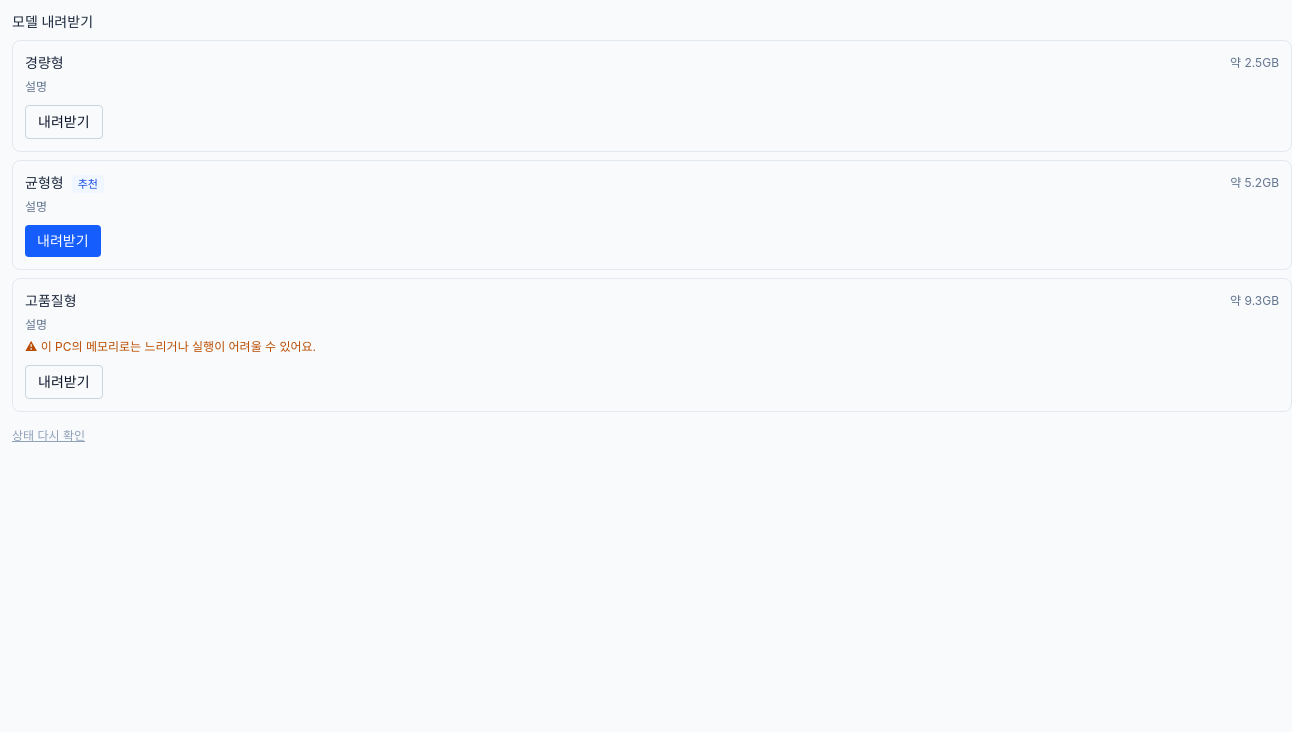
Test: LocalAiSection › 다운로드 진행률을 progressbar로 보여주고 완료 후 연결을 확인한다
The width and height of the screenshot is (1292, 732).
Click the button "내려받기" below "균형형".
click(63, 241)  # box [25, 225, 100, 257]
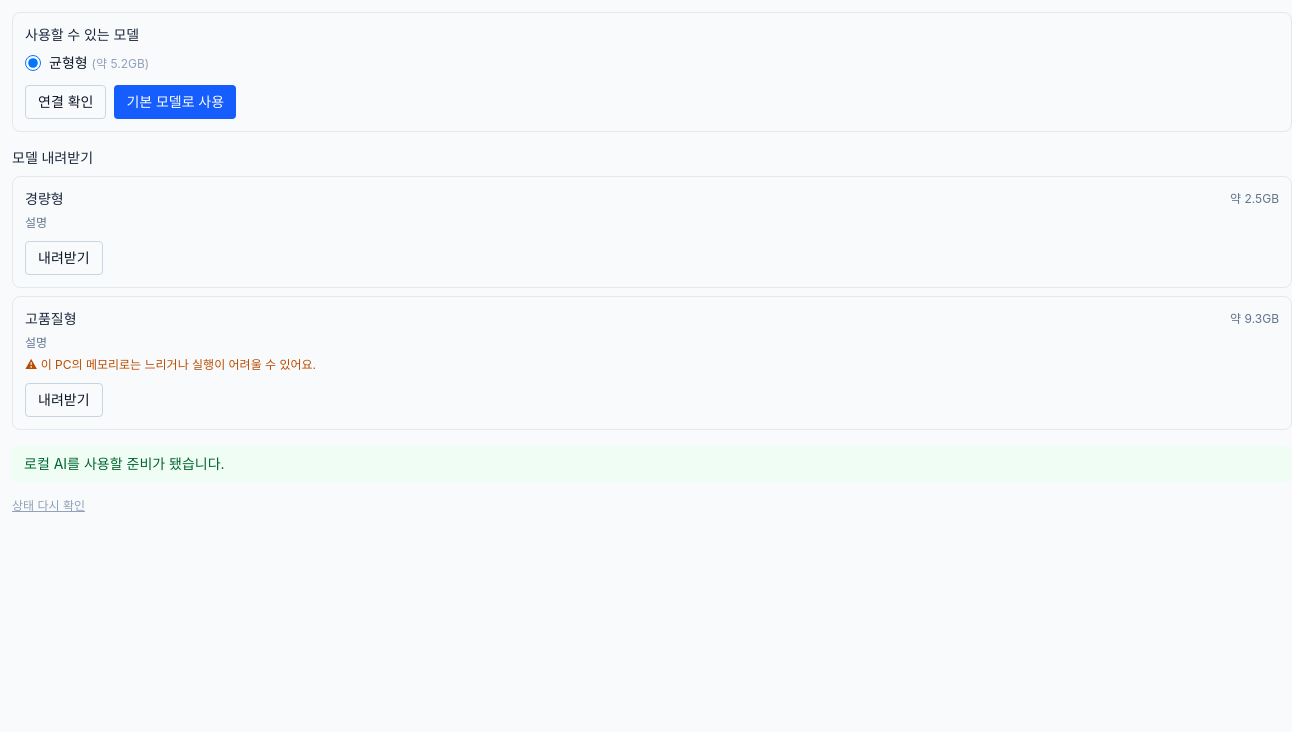
Expected: the text "로컬 AI를 사용할 준비가 됐습니다." is shown, [12, 446, 1291, 482]
